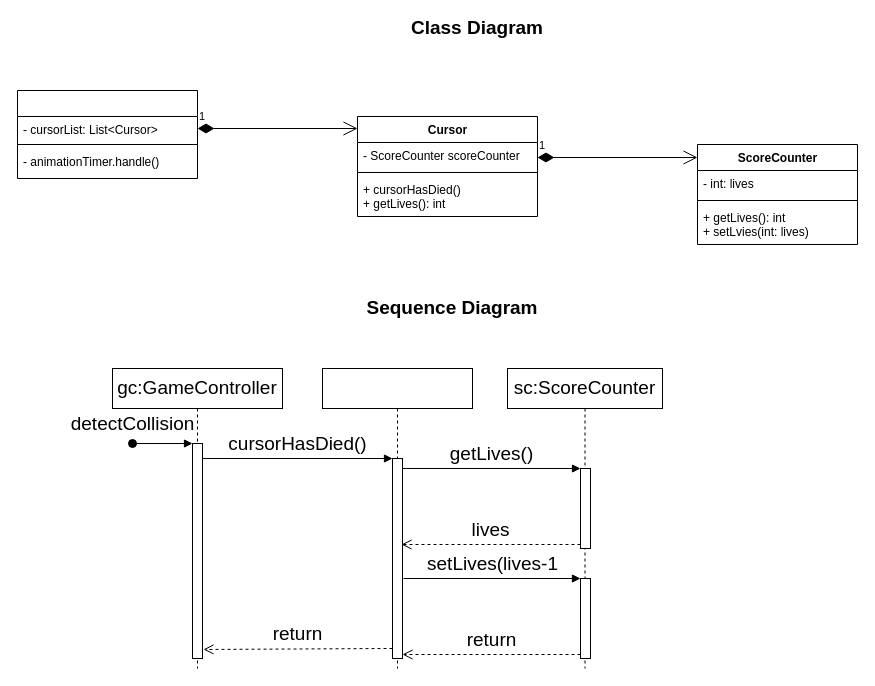
Some shapes in this 875 by 686 pixel diagram are drawn without their labels. Each missing label, with the box of its shape:
cursor:Cursor: (322, 368, 472, 668)
GameController: (16, 90, 198, 178)
